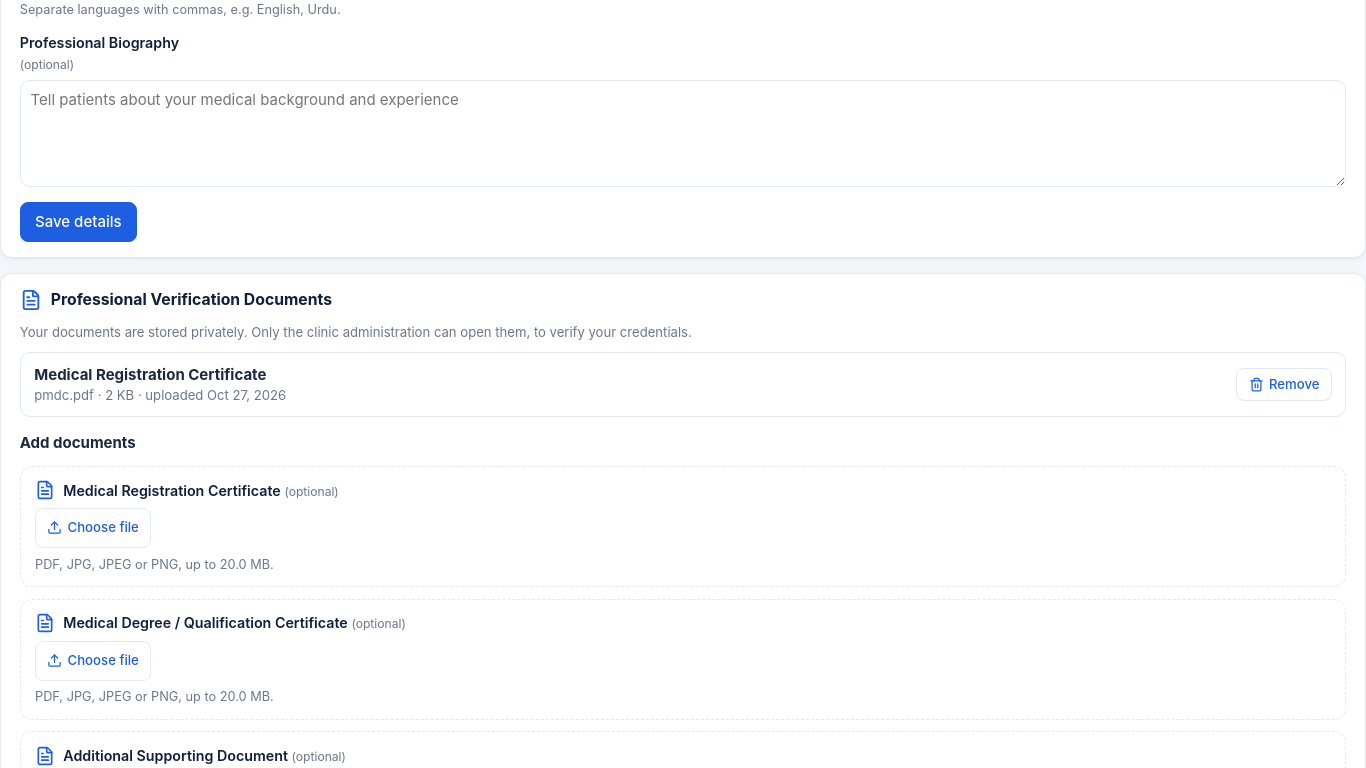
Test case: My Doctor Application › asks before removing a document
This screenshot has width=1366, height=768.
(page scrolled)
Click the button with aria-label "Remove Medical Registration Certificate": [1284, 385] box [1236, 368, 1332, 401]
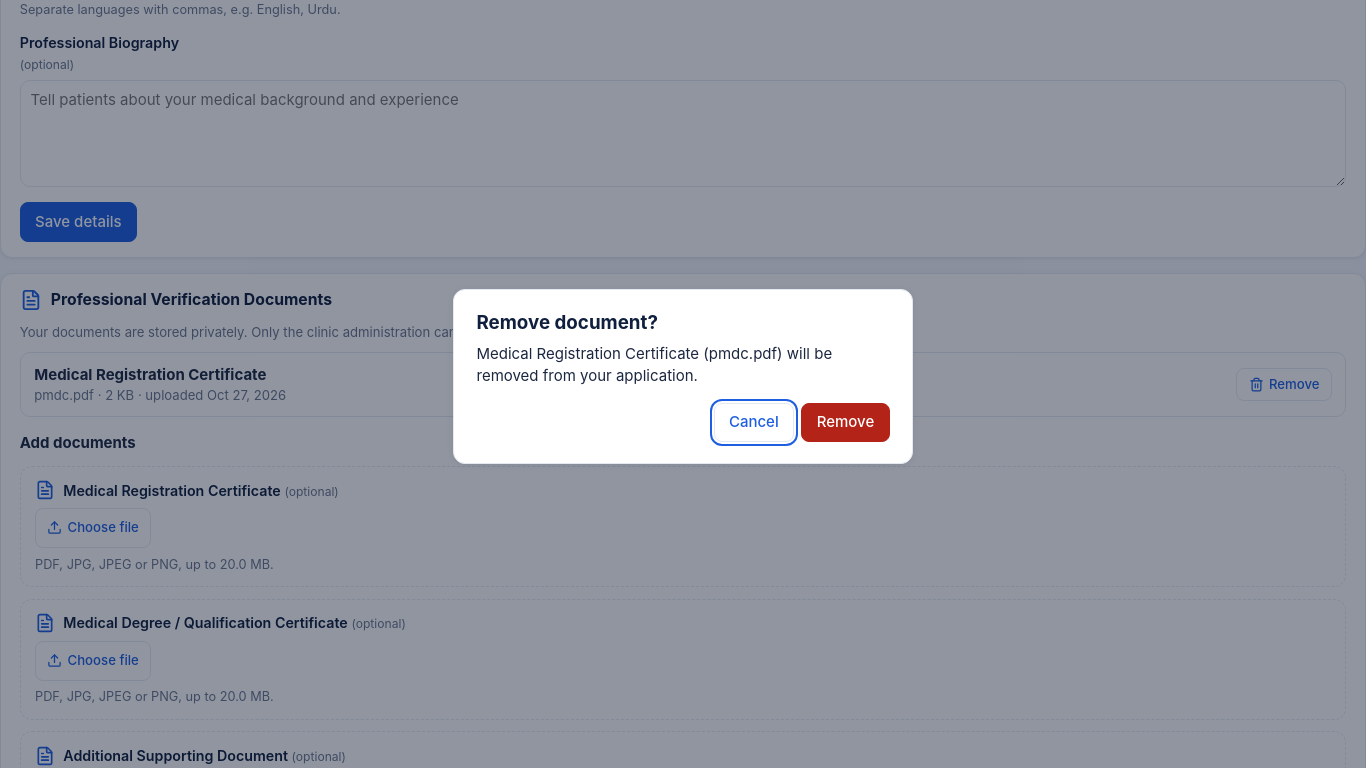
Click the button "Remove": [845, 423] box [801, 403, 890, 442]
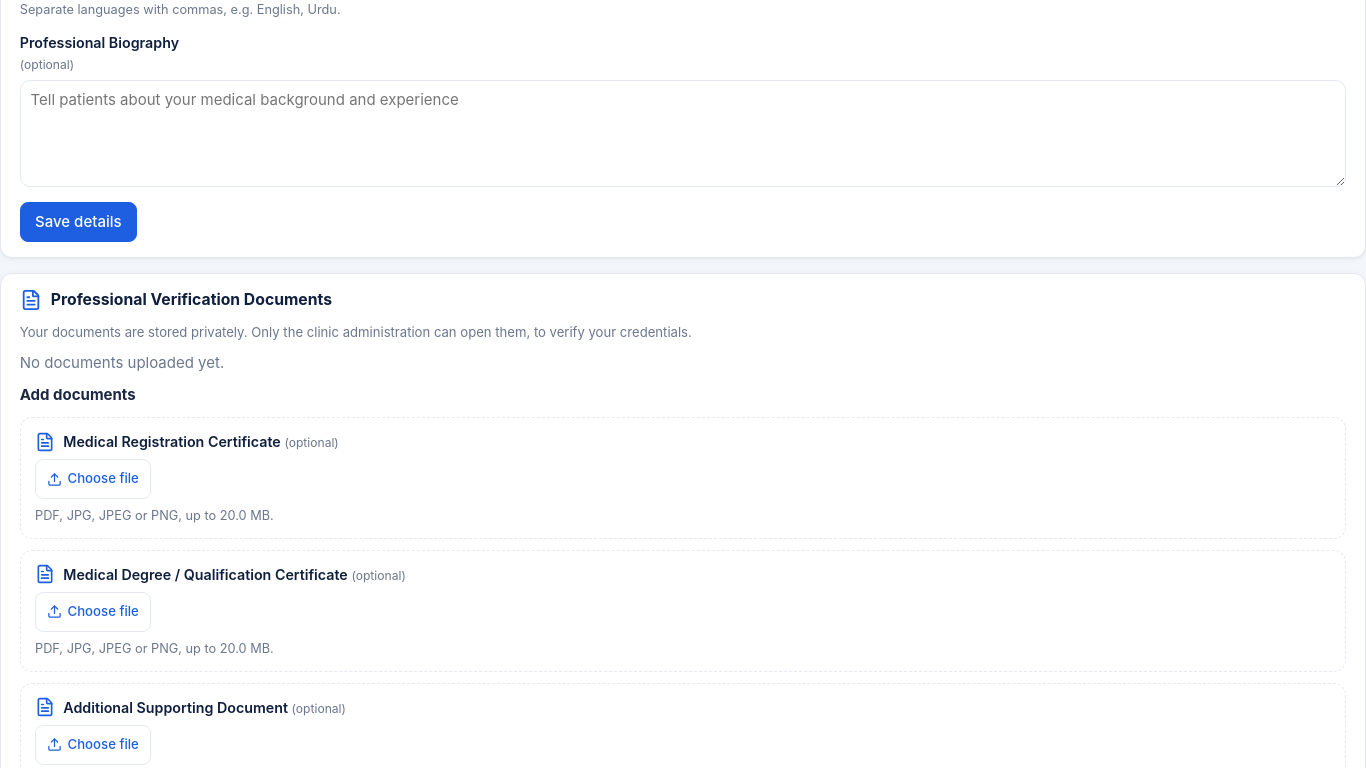
Check: the text "No documents uploaded yet." is shown, box [20, 353, 224, 372]
